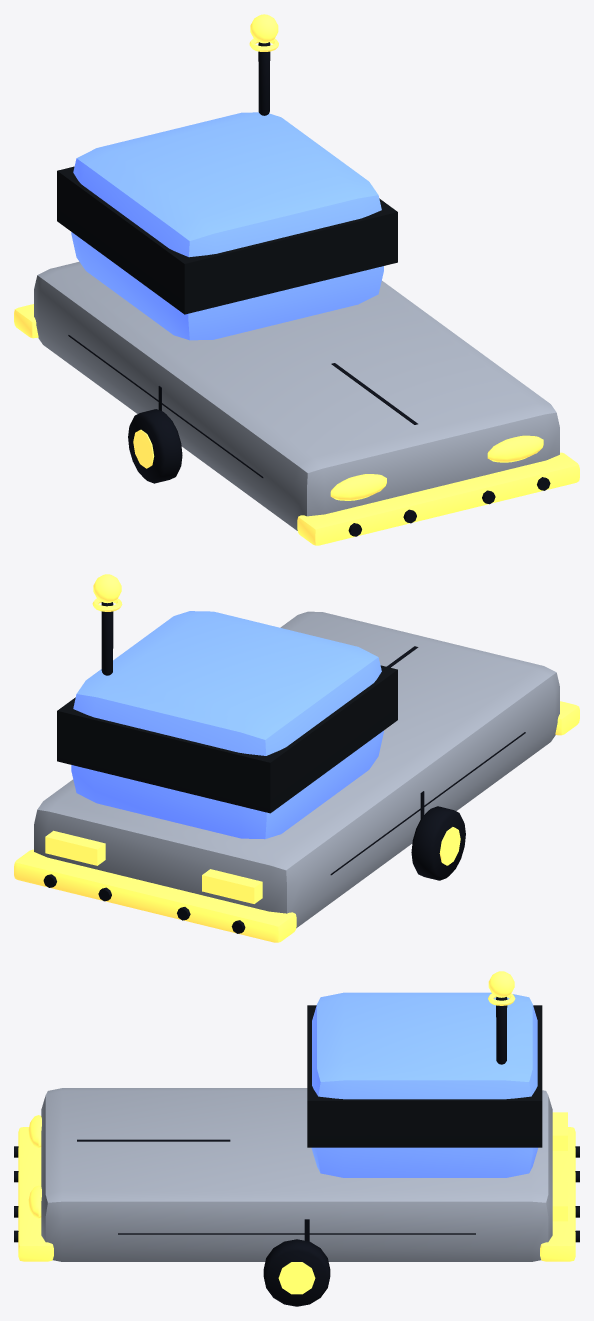
The model's file is spaceship.glb.
The picture shows the model from 3 angles, top to bottom: view 1: azimuth 30°, elevation 25°; view 2: azimuth 150°, elevation 25°; view 3: azimuth 270°, elevation 25°; orthographic projection. The views are drawn at different scales.
Visible parts, largest first — view 1: body_mesh; view 2: body_mesh; view 3: body_mesh.
Part boxes in pixels (x1,y1,x2,y2): body_mesh: (14,14,579,545); body_mesh: (14,574,579,942); body_mesh: (14,971,579,1306).
Bounding box in the file's own units: 1.47 × 1.5 × 2.54.
